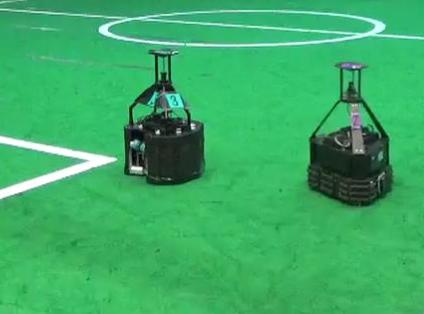robot: (298, 53, 401, 207), (119, 43, 211, 188)
